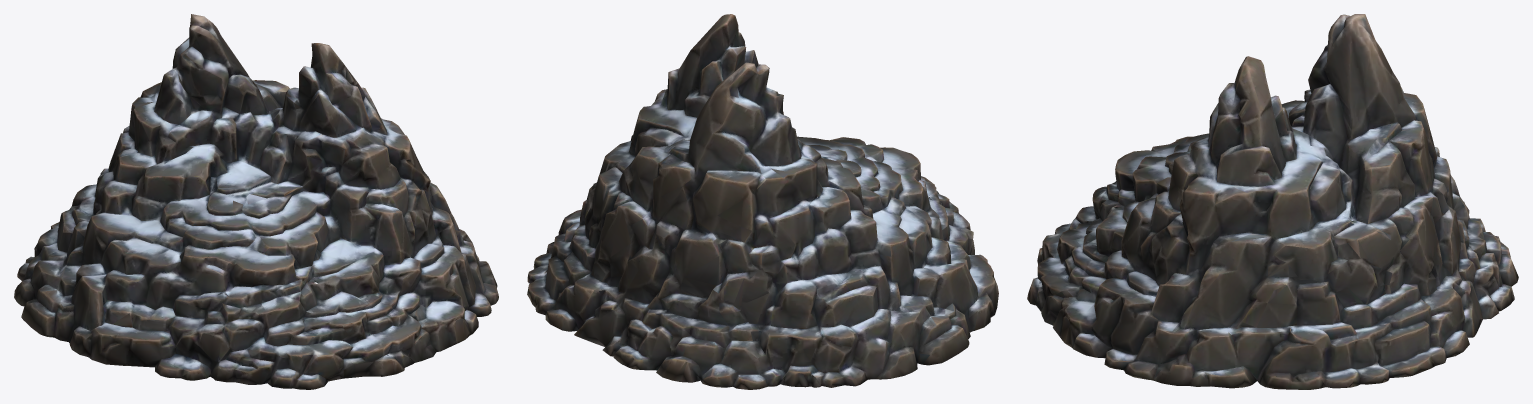
File: mountain-2.glb
The picture shows the model from 3 angles, left to right: view 1: azimuth 30°, elevation 25°; view 2: azimuth 150°, elevation 25°; view 3: azimuth 270°, elevation 25°; orthographic projection. The views are drawn at different scales.
Visible parts, largest first — view 1: geometry_0; view 2: geometry_0; view 3: geometry_0.
Part boxes in pixels (left/top/right/bottom): geometry_0: left=14, top=14, right=498, bottom=389; geometry_0: left=527, top=14, right=998, bottom=389; geometry_0: left=1027, top=14, right=1518, bottom=389.
Size of the model in its own units: 0.9869 by 0.5876 by 0.9942.
1 material, 1 textured.
